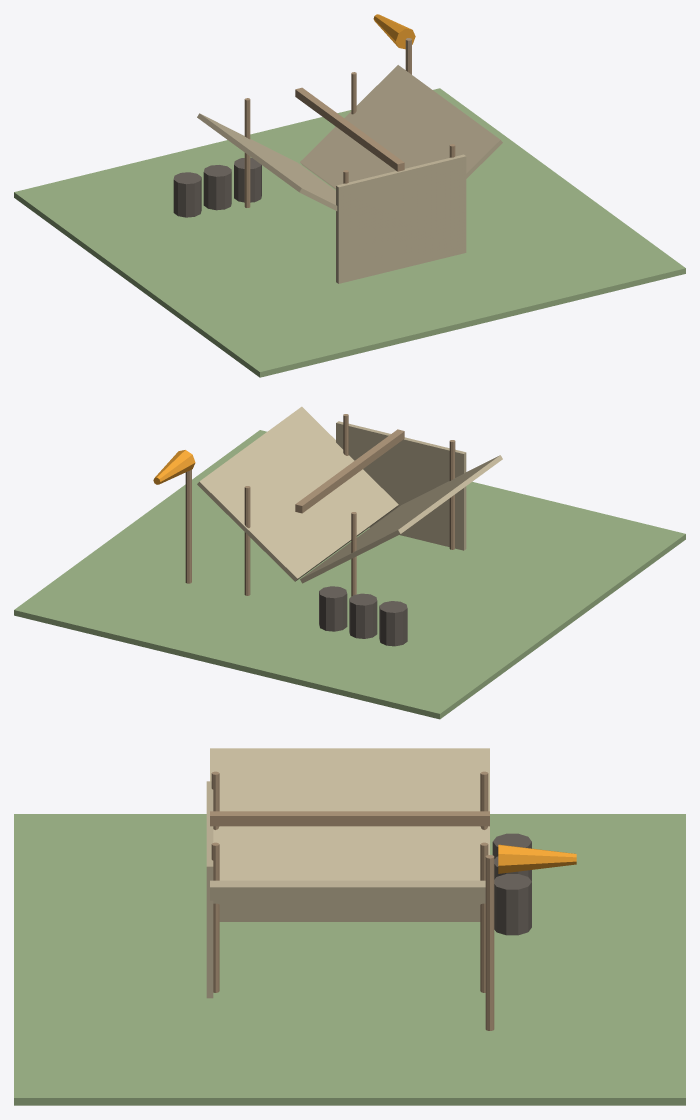
The model's file is setpiece-aerodrome.glb.
The picture shows the model from 3 angles, top to bottom: view 1: azimuth 30°, elevation 25°; view 2: azimuth 150°, elevation 25°; view 3: azimuth 270°, elevation 25°; orthographic projection. The views are drawn at different scales.
Visible parts, largest first — view 1: setpiece-aerodrome; view 2: setpiece-aerodrome; view 3: setpiece-aerodrome.
Part boxes in pixels (left/top/right/bottom): setpiece-aerodrome: left=14, top=14, right=685, bottom=377; setpiece-aerodrome: left=14, top=406, right=685, bottom=719; setpiece-aerodrome: left=14, top=748, right=685, bottom=1105.
Size of the model in its own units: 12 by 3.78 by 12.
